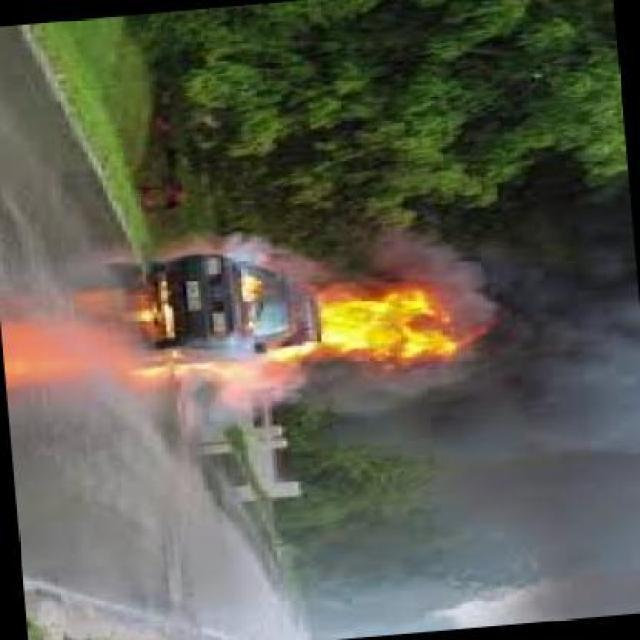Fire: (318, 286, 464, 364), (136, 338, 318, 388)
Smoke: (303, 363, 640, 620), (446, 162, 640, 356)
